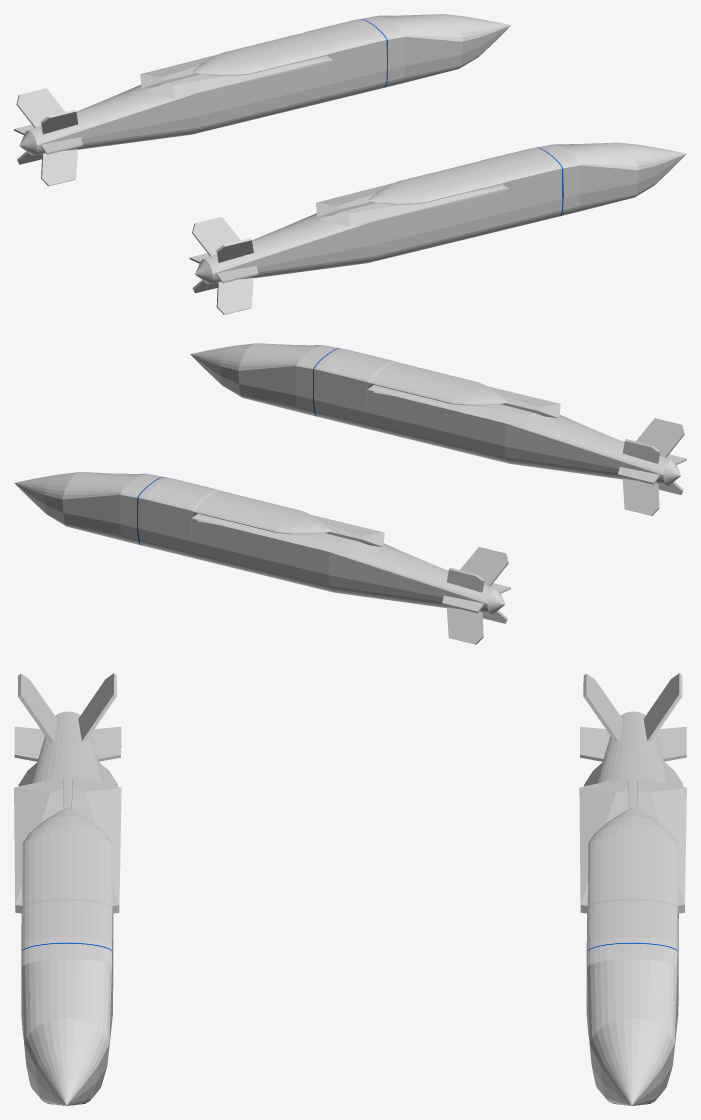
Rendered from f15eagm154241.glb.
3 views of the same model, one above another, from view 1: azimuth 30°, elevation 25°; view 2: azimuth 150°, elevation 25°; view 3: azimuth 270°, elevation 25° (orthographic). The views are drawn at different scales.
Visible parts, largest first — view 1: 立方体.004, 立方体.006; view 2: 立方体.004, 立方体.006; view 3: 立方体.004, 立方体.006.
Boxes of the visible parts, x1,y1,x2,y2 form: 立方体.004: (14,14,510,186); 立方体.006: (189,142,686,314); 立方体.004: (14,472,510,644); 立方体.006: (190,343,686,515); 立方体.004: (579,673,686,1105); 立方体.006: (14,673,121,1105).
Size of the model in its own units: 5.26 by 0.7224 by 3.87.
Materials: 5 (1 with a texture image).
